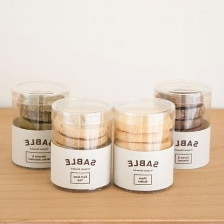plastic_box: (106, 92, 181, 196), (44, 93, 119, 196), (4, 75, 74, 172), (148, 76, 217, 172)
